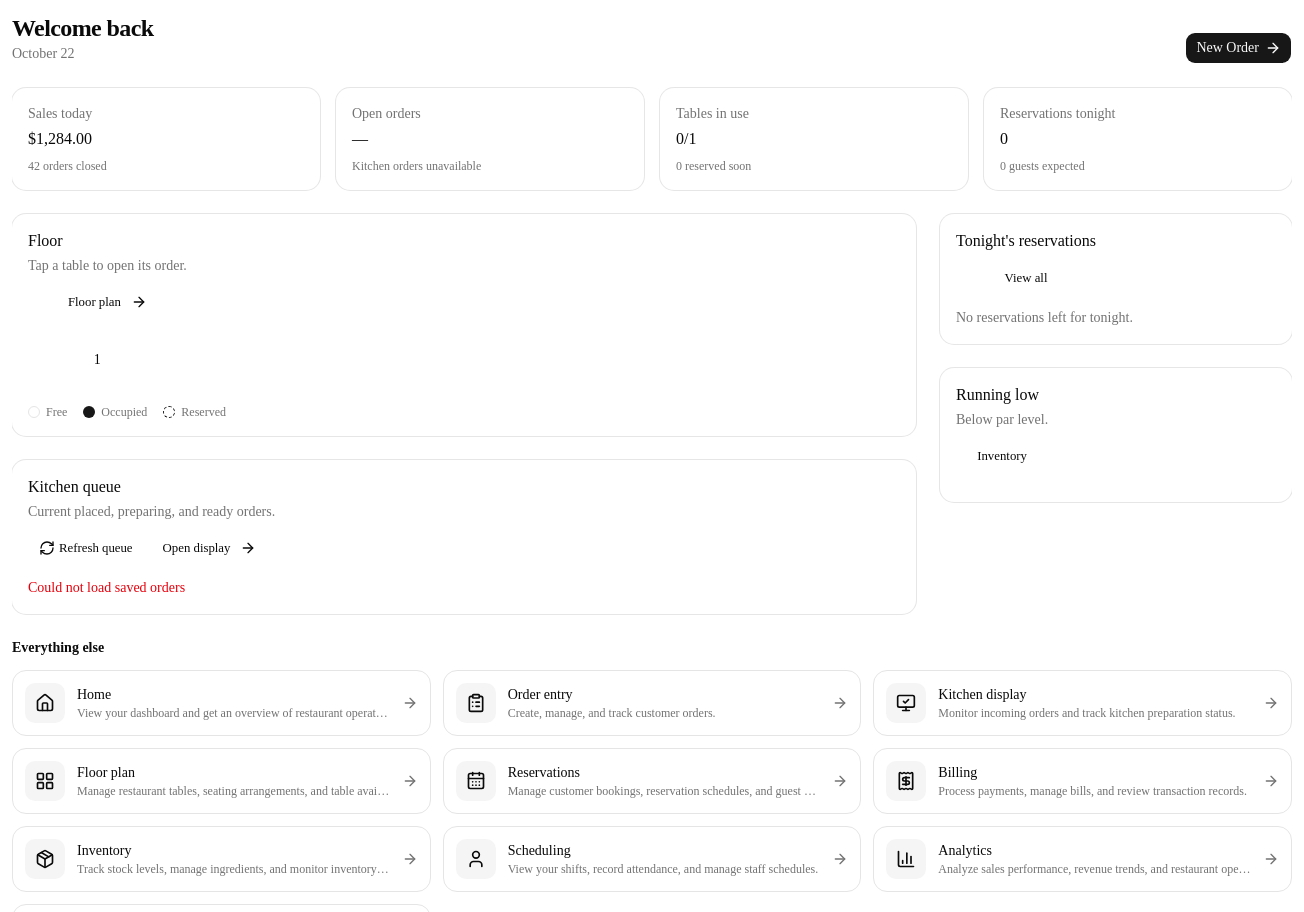
Scenario: shows a load error rather than an empty queue, and refresh retries
Expected: the message reads "Could not load saved orders", left=28, top=580, right=185, bottom=595
Expected: the text "—" is shown, left=352, top=130, right=368, bottom=147
Click the button "Refresh queue": click(86, 548) left=28, top=534, right=144, bottom=562
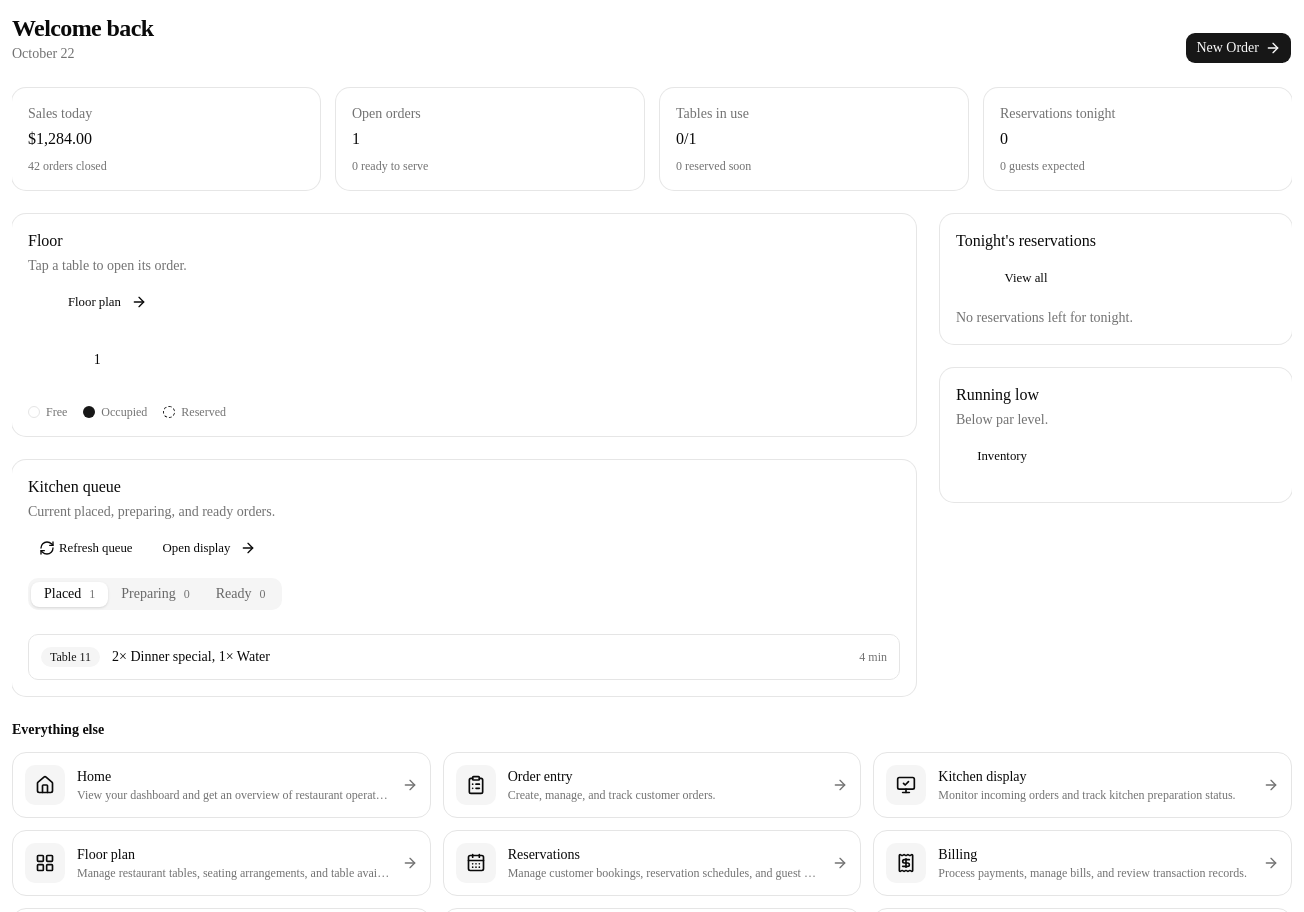
Expected: the tab "Placed 1" is shown, left=31, top=582, right=108, bottom=606
Expected: the message "Could not load saved orders" is gone
Expected: the icon "Table 11" is shown, left=41, top=647, right=100, bottom=667
